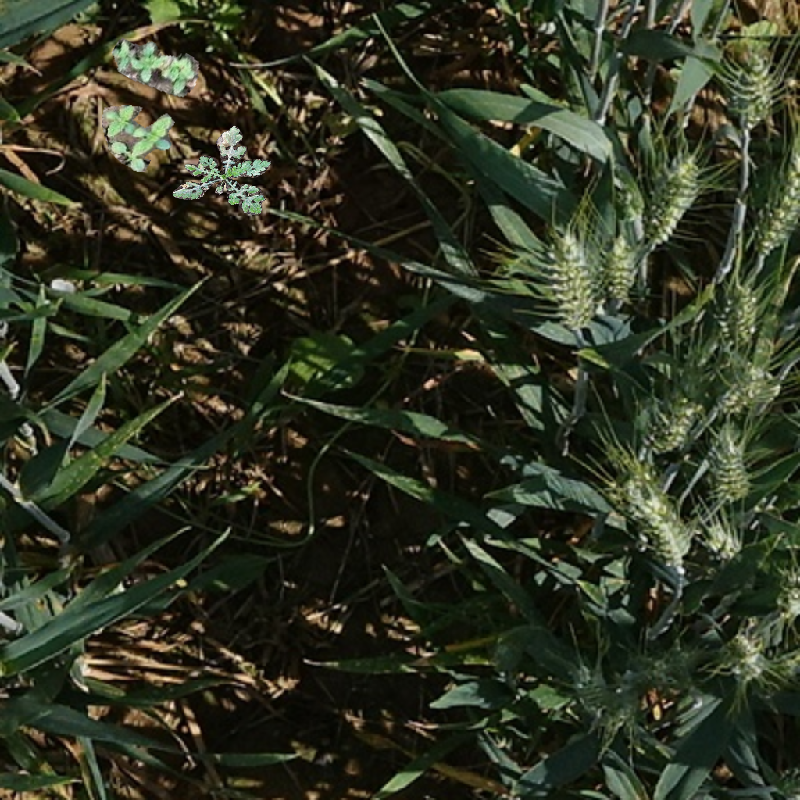spikelet: (638, 341, 718, 454), (617, 479, 692, 560), (639, 153, 700, 246), (750, 141, 798, 257), (719, 35, 776, 127), (600, 657, 671, 730), (545, 232, 594, 328), (708, 424, 750, 502), (709, 280, 758, 346), (717, 364, 781, 414), (603, 233, 637, 312), (714, 632, 764, 682), (700, 521, 744, 564), (569, 668, 603, 716), (775, 569, 800, 617)
weed: (163, 120, 281, 229), (105, 20, 208, 109), (102, 105, 175, 172)
